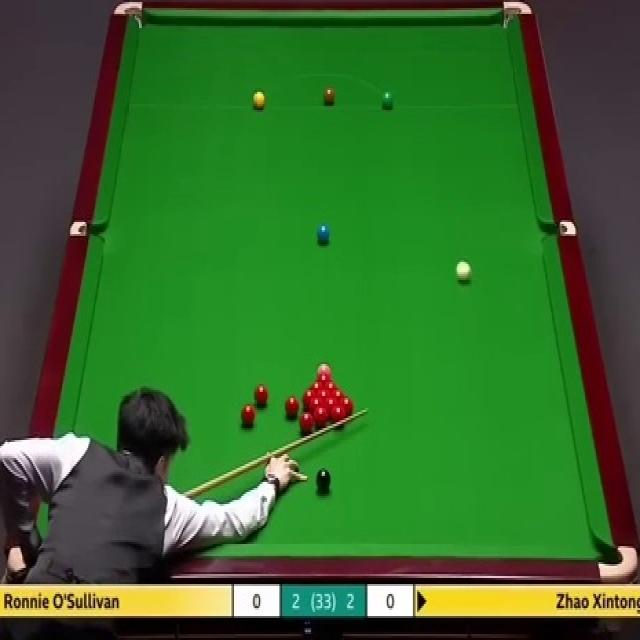black-ball: (315, 466, 331, 493)
blue-ball: (318, 224, 331, 247)
brown-ball: (323, 89, 335, 106)
green-ball: (382, 90, 393, 110)
pink-ball: (316, 360, 332, 376)
red-ball: (252, 382, 272, 408), (315, 404, 331, 428), (300, 412, 316, 435), (284, 394, 300, 416), (338, 396, 355, 416), (331, 406, 347, 427), (240, 403, 255, 425), (309, 397, 324, 412), (325, 398, 338, 415), (303, 391, 315, 407), (322, 382, 340, 392), (331, 389, 347, 400), (315, 372, 332, 382), (316, 390, 332, 400), (307, 382, 323, 391)
white-ball: (456, 258, 473, 284)
yellow-ball: (252, 89, 267, 110)
